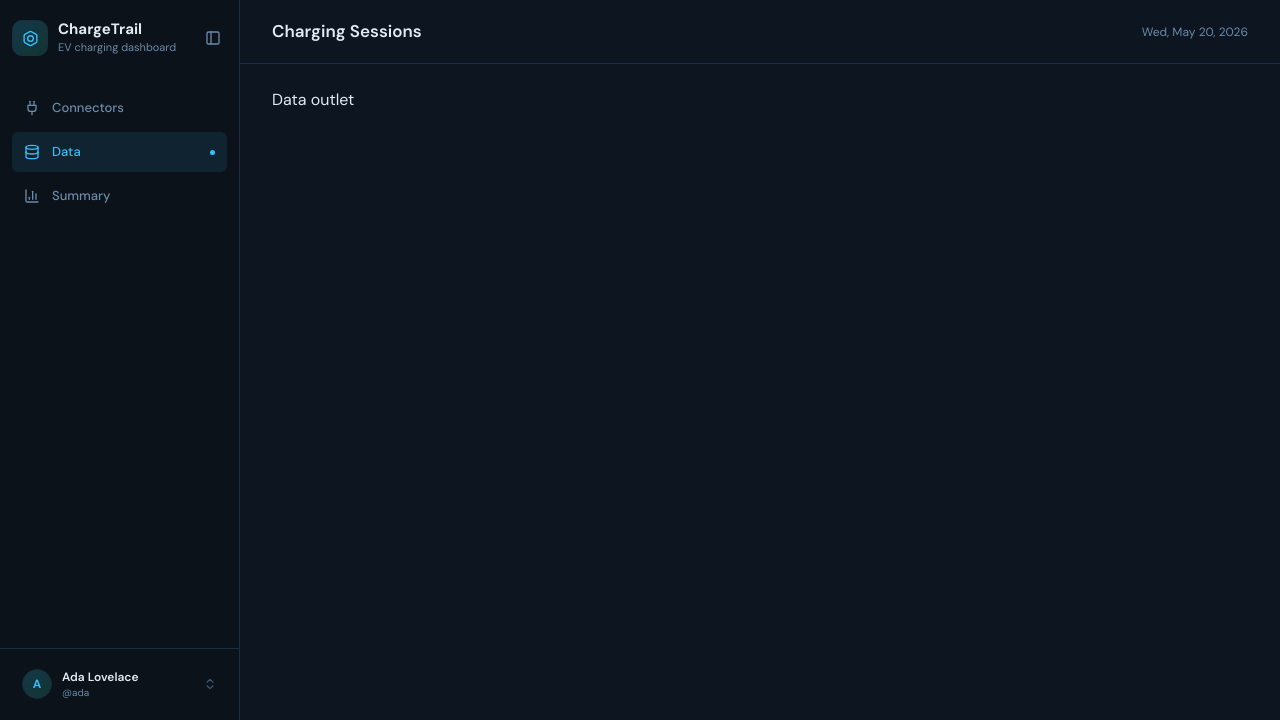
it: AppShell › hides admin settings from non-admin users
The width and height of the screenshot is (1280, 720).
Click the button with aria-label "open account menu" at (120, 684), box [12,661,227,708]
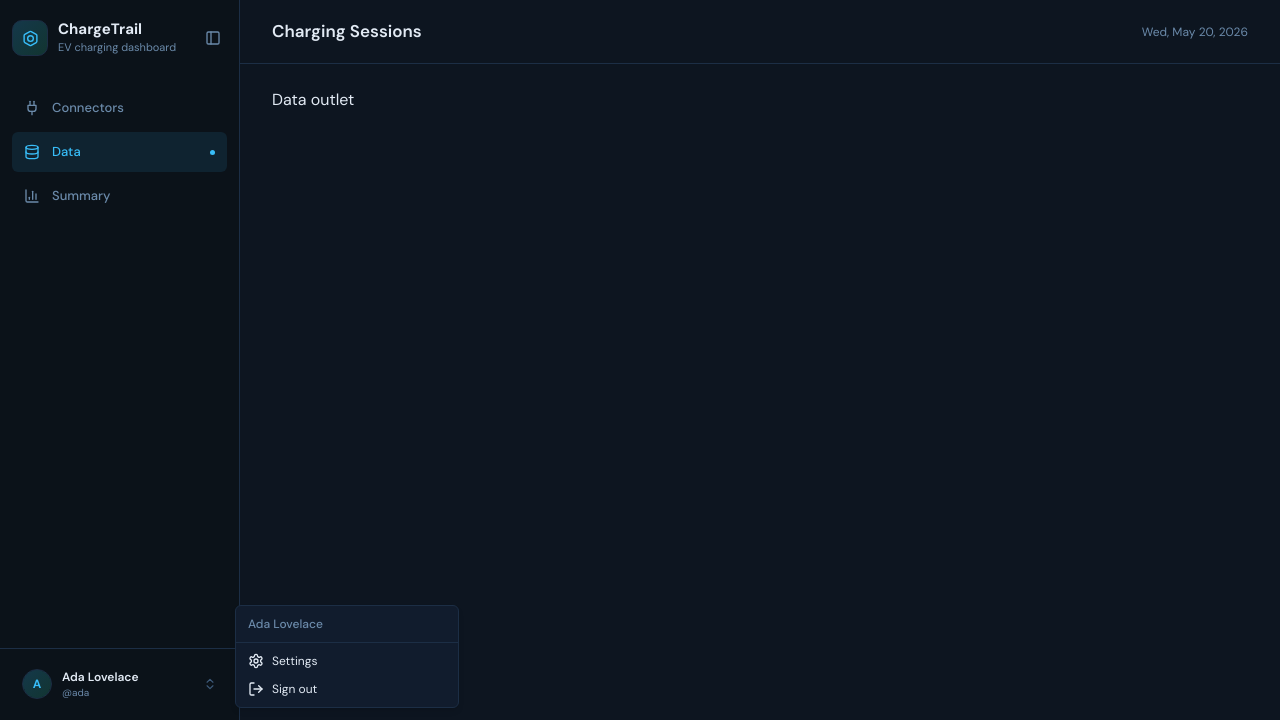
Check: the menu item "Settings" is shown, box [248,653,318,669]
Check: the menu item "Sign out" is shown, box [248,681,317,697]
